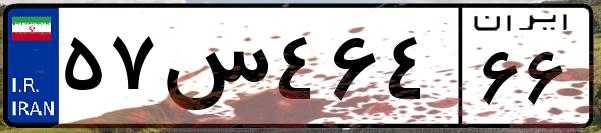4: (270, 28, 330, 110), (385, 28, 445, 110)
5: (57, 26, 110, 100)
6: (330, 28, 385, 110), (475, 38, 525, 113), (525, 38, 570, 115)
7: (110, 28, 158, 98)
س: (158, 20, 270, 120)
